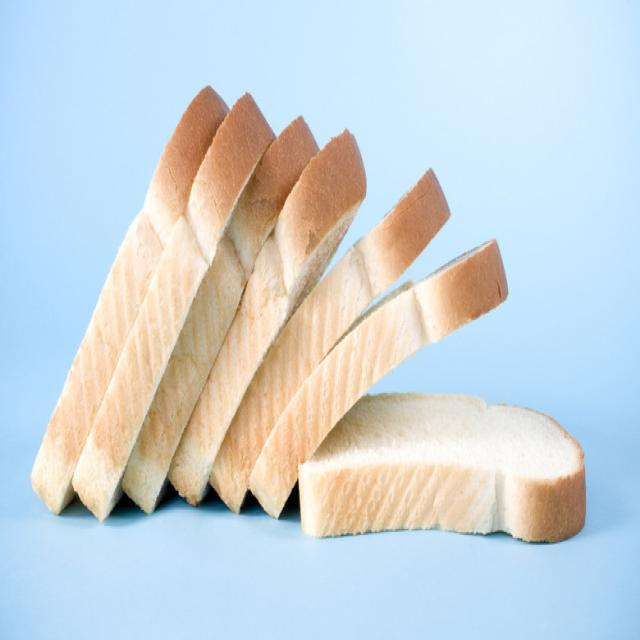Bread: (170, 131, 365, 502), (299, 394, 586, 542)
